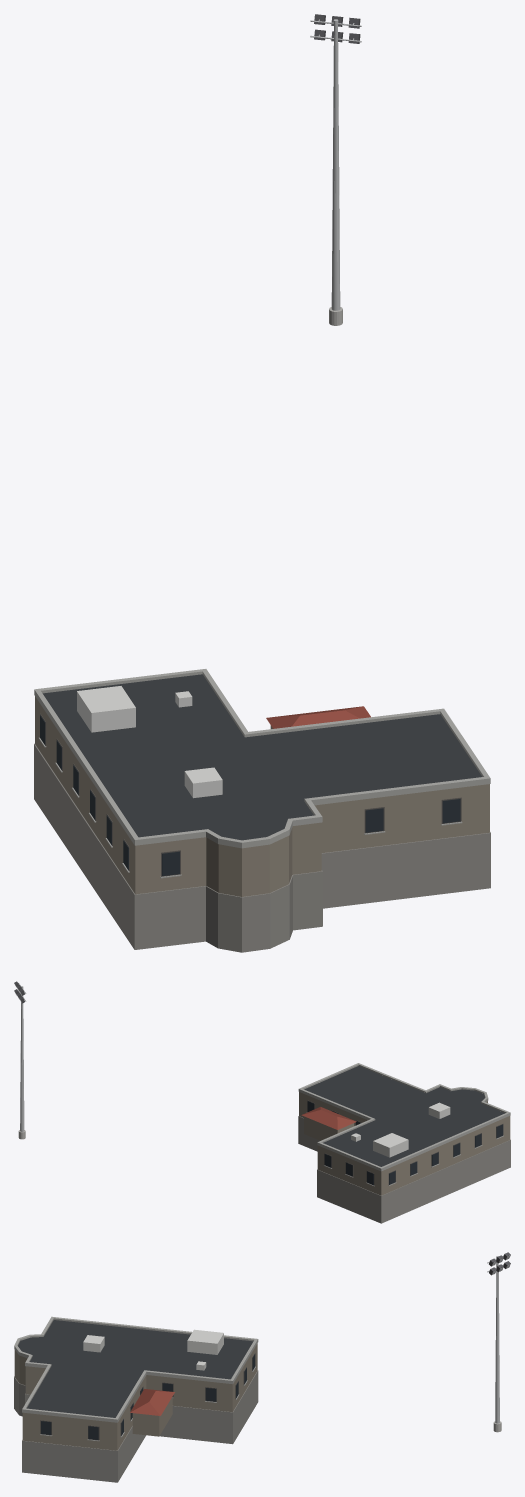
The picture shows the model from 3 angles, top to bottom: view 1: azimuth 30°, elevation 25°; view 2: azimuth 150°, elevation 25°; view 3: azimuth 270°, elevation 25°; orthographic projection. The views are drawn at different scales.
Parts seen in each view (by area): view 1: fp_police_roof_membrane, fp_police_foundation, fp_police_body, fp_police_parapet_coping, fp_police_roof_units, ft_light_pole_SW, fp_police_windows, fp_police_outbuilding; view 2: fp_police_roof_membrane, fp_police_foundation, fp_police_body, fp_police_parapet_coping, fp_police_windows, fp_police_roof_units, ft_light_pole_SW, fp_police_outbuilding; view 3: fp_police_roof_membrane, fp_police_foundation, fp_police_body, fp_police_parapet_coping, fp_police_roof_units, ft_light_pole_SW, fp_police_windows, fp_police_outbuilding.
Boxes of the visible parts, box(x1,y1,x2,y2) form: fp_police_roof_membrane: box(42, 674, 481, 840); fp_police_foundation: box(34, 743, 490, 952); fp_police_body: box(35, 696, 489, 896); fp_police_parapet_coping: box(34, 669, 490, 878); fp_police_roof_units: box(77, 686, 222, 798); ft_light_pole_SW: box(310, 14, 361, 325); fp_police_windows: box(40, 713, 461, 876); fp_police_outbuilding: box(266, 706, 370, 728); fp_police_roof_membrane: box(304, 1066, 504, 1166); fp_police_foundation: box(298, 1116, 510, 1223); fp_police_body: box(299, 1092, 510, 1195); fp_police_parapet_coping: box(298, 1063, 510, 1186); fp_police_windows: box(307, 1100, 503, 1185); fp_police_roof_units: box(351, 1102, 450, 1157); ft_light_pole_SW: box(14, 981, 26, 1139); fp_police_outbuilding: box(301, 1107, 356, 1129); fp_police_roof_membrane: box(18, 1320, 253, 1417); fp_police_foundation: box(14, 1370, 258, 1482); fp_police_body: box(14, 1343, 257, 1450); fp_police_parapet_coping: box(14, 1316, 258, 1441); fp_police_roof_units: box(83, 1329, 223, 1370); ft_light_pole_SW: box(487, 1252, 510, 1432); fp_police_windows: box(40, 1353, 255, 1440); fp_police_outbuilding: box(130, 1389, 174, 1415).
Bounding box in the file's own units: 45.63 × 36.03 × 56.02.
